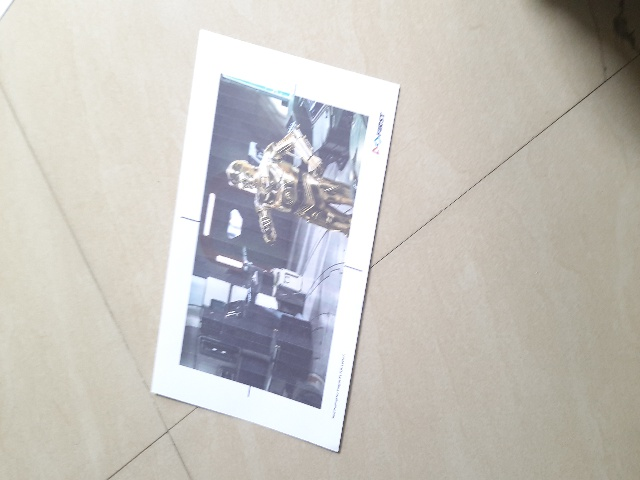rpt1: (166, 22, 370, 458)
